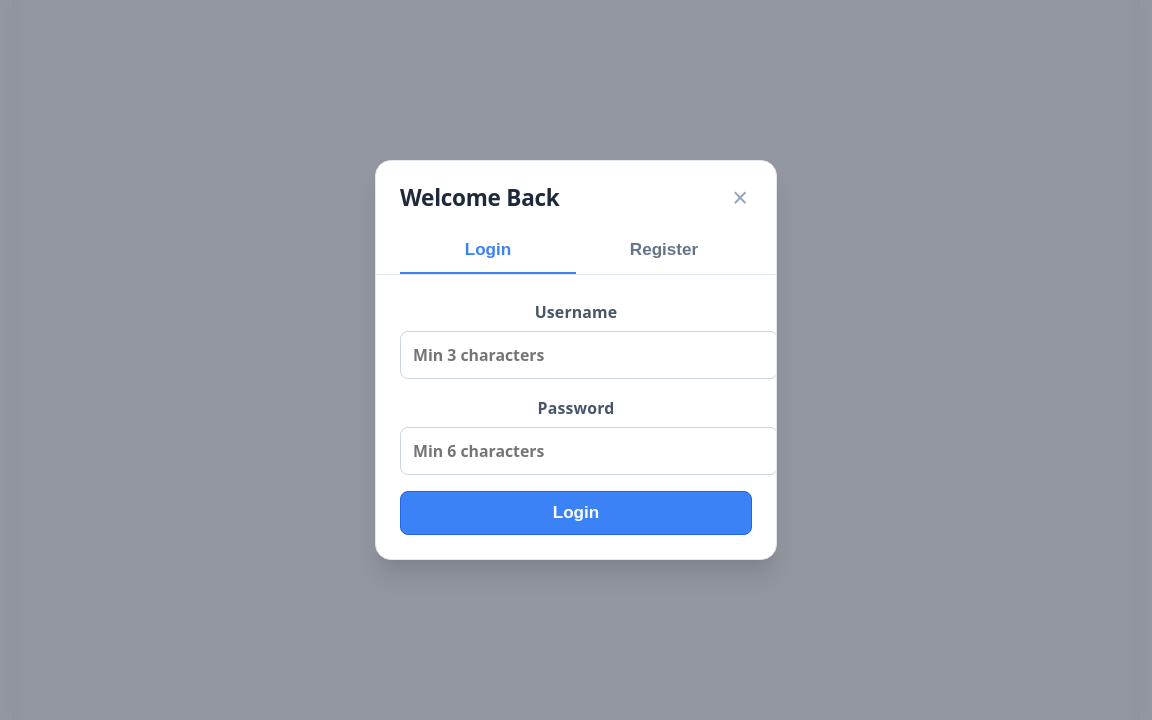
Test: AuthModal.vue › displays API error message on submit failure
Type "wronguser" into the field with test id "username".
click(589, 355); type("wronguser")  # box [400, 331, 778, 379]
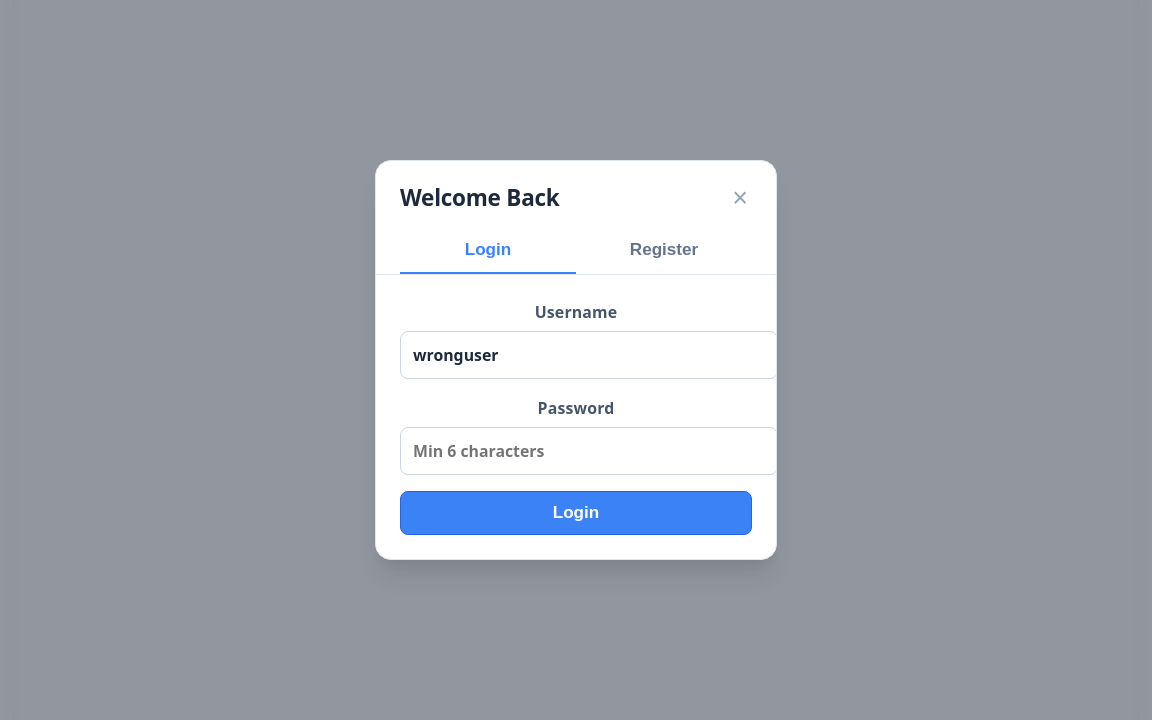
Type "wrongpass" into the password field with test id "password".
click(589, 451); type("wrongpass")  # box [400, 427, 778, 475]
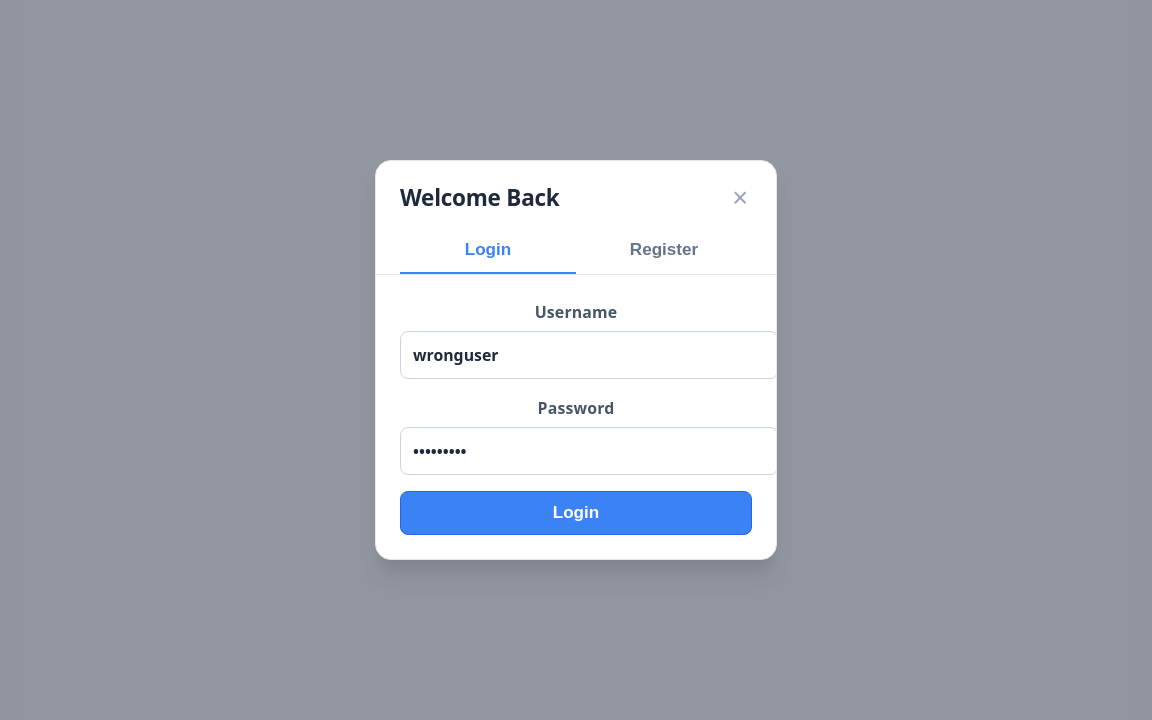
Submit the form, box [376, 275, 776, 559]
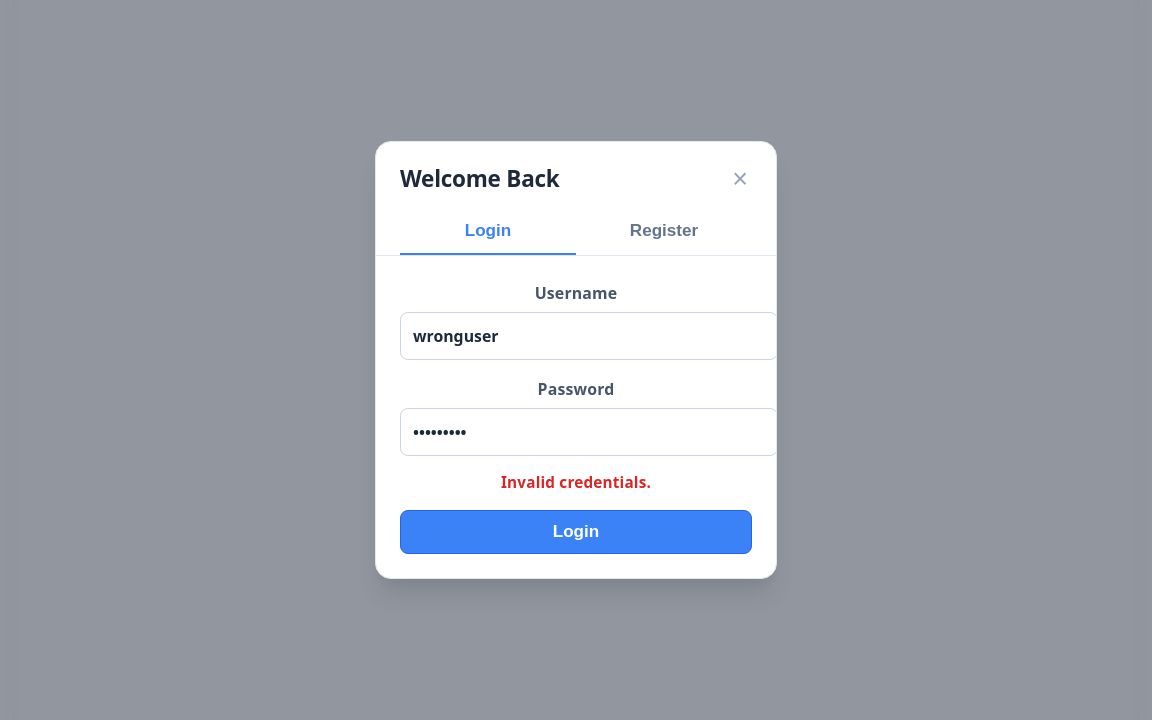
Check: the message with test id "error" reads "Invalid credentials.", box [501, 472, 651, 492]
